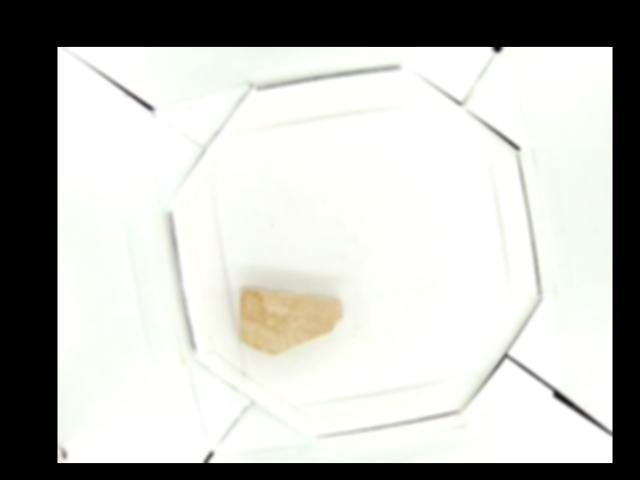China: (237, 285, 340, 350)
